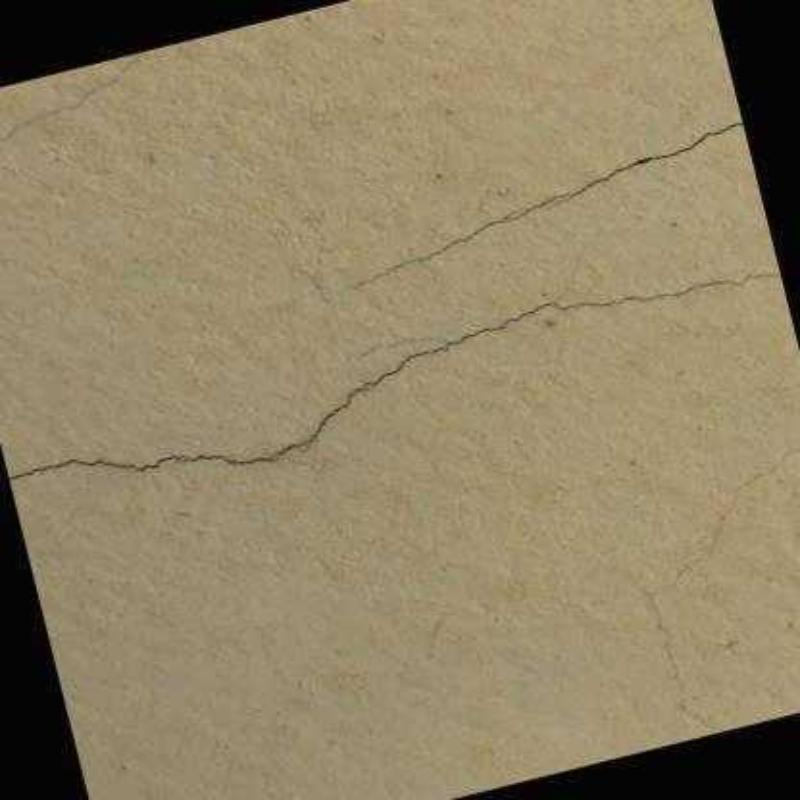pothole: (548, 122, 744, 206), (501, 274, 781, 325), (362, 209, 520, 283), (359, 327, 505, 389), (7, 455, 278, 482), (274, 387, 371, 455), (505, 192, 573, 221)
